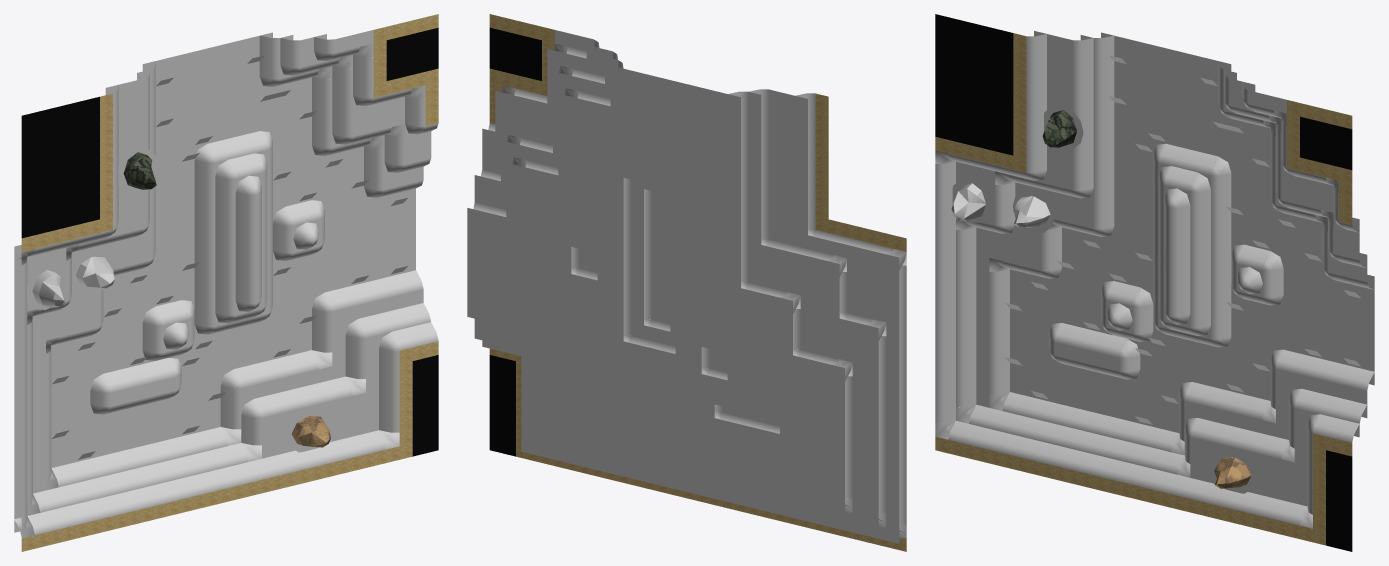
File: Uluru-Cave-3_01_02.obj
3 renders of one model, left to right at view 1: azimuth 30°, elevation 25°; view 2: azimuth 150°, elevation 25°; view 3: azimuth 330°, elevation 25°, orthographic.
Visible parts, largest first — view 1: map; view 2: map; view 3: map.
Part boxes in pixels (x1,y1,x2,y2): map: (14,14,438,551); map: (467,14,906,551); map: (935,14,1374,551).
Bounding box in the file's own units: 32 × 32 × 4.54.
